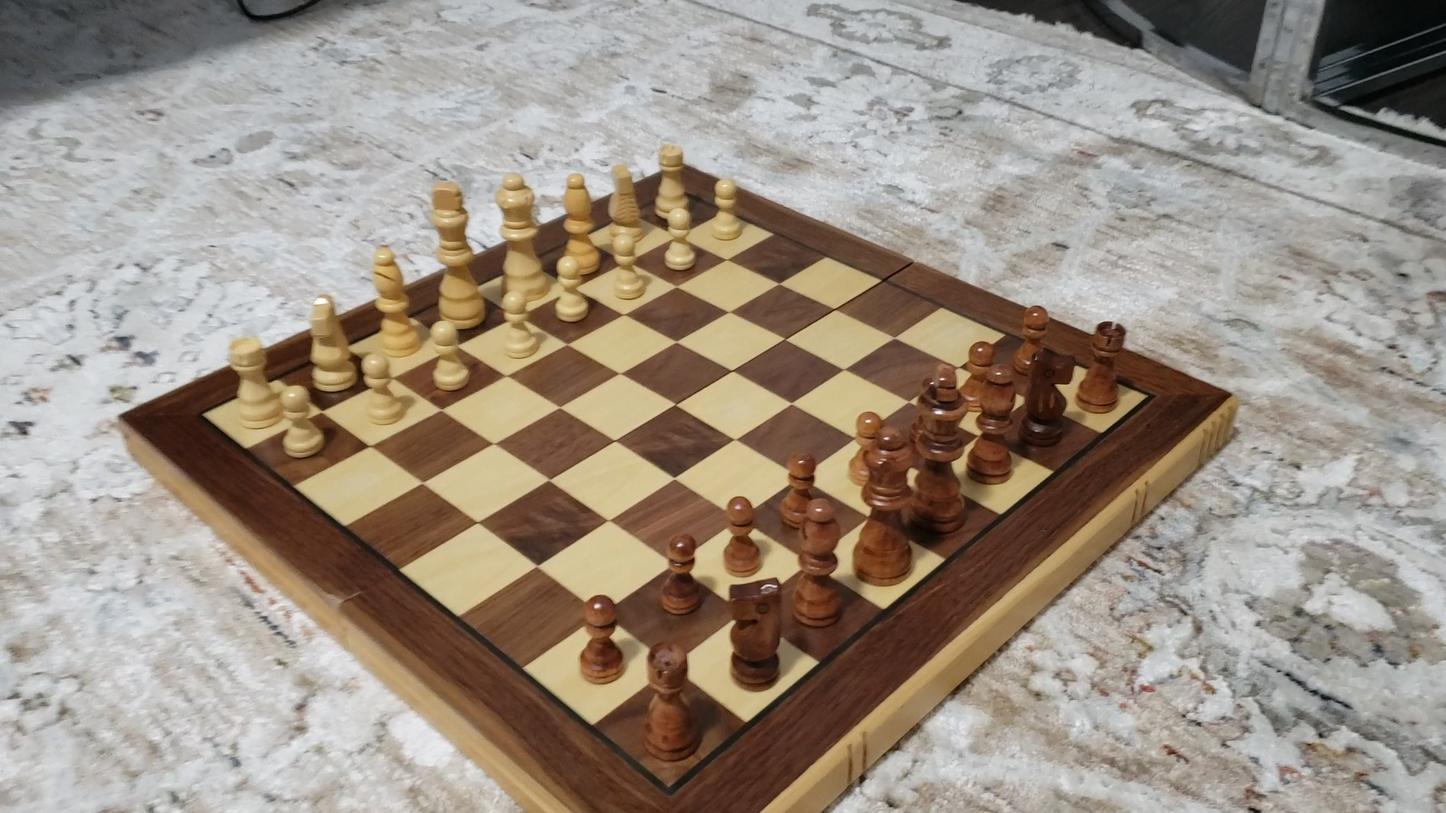black-bishop: (963, 363, 1022, 484), (793, 494, 846, 628)
black-king: (907, 361, 975, 535)
black-knight: (726, 576, 787, 691), (1017, 346, 1074, 449)
black-pawn: (574, 592, 626, 688), (659, 531, 705, 618), (720, 493, 762, 579), (779, 448, 822, 531), (955, 333, 1000, 410), (844, 409, 886, 488), (1008, 300, 1051, 377)
black-queen: (853, 420, 920, 586)
black-rook: (639, 640, 700, 763), (1074, 319, 1127, 414)
white-bishop: (369, 242, 420, 357), (560, 169, 599, 278)
white-king: (424, 175, 484, 329)
white-knight: (307, 292, 356, 393), (607, 158, 647, 249)
white-pawn: (272, 383, 329, 463), (354, 350, 409, 430), (603, 221, 654, 306), (424, 317, 474, 396), (494, 289, 546, 364), (548, 251, 597, 326), (656, 200, 702, 277), (703, 172, 749, 247)
white-queen: (494, 169, 547, 313)
white-rook: (226, 334, 284, 431), (652, 139, 691, 225)
